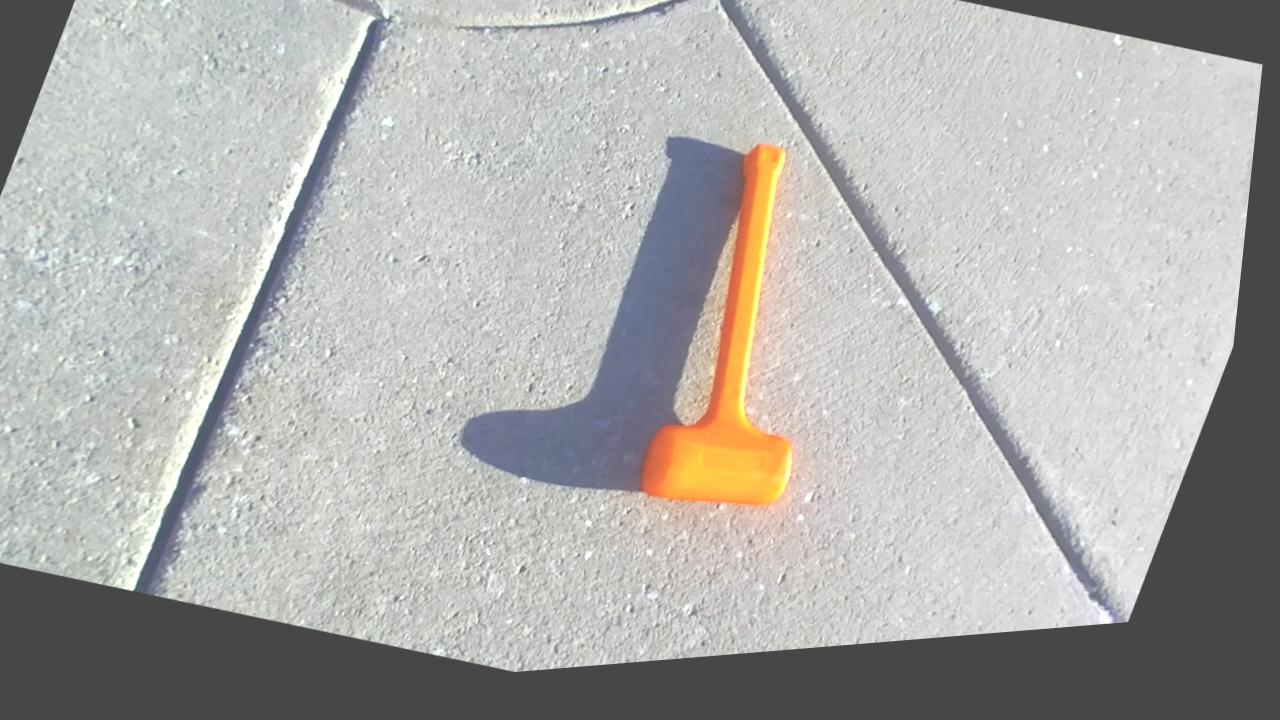mallet: (642, 144, 791, 504)
